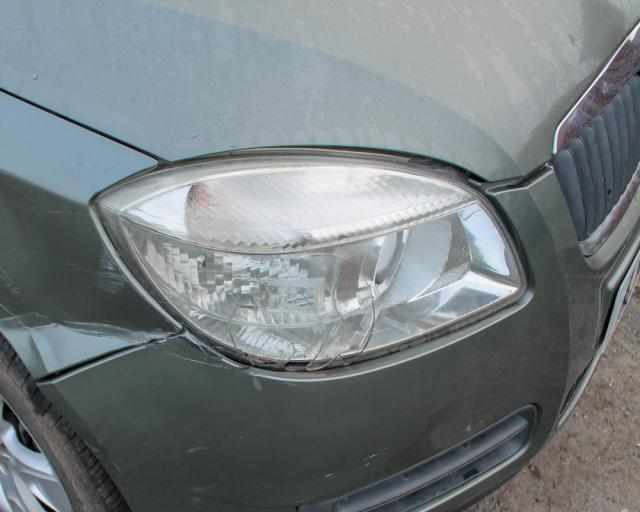dent: (0, 170, 180, 374)
lamp broken: (85, 151, 527, 374)
